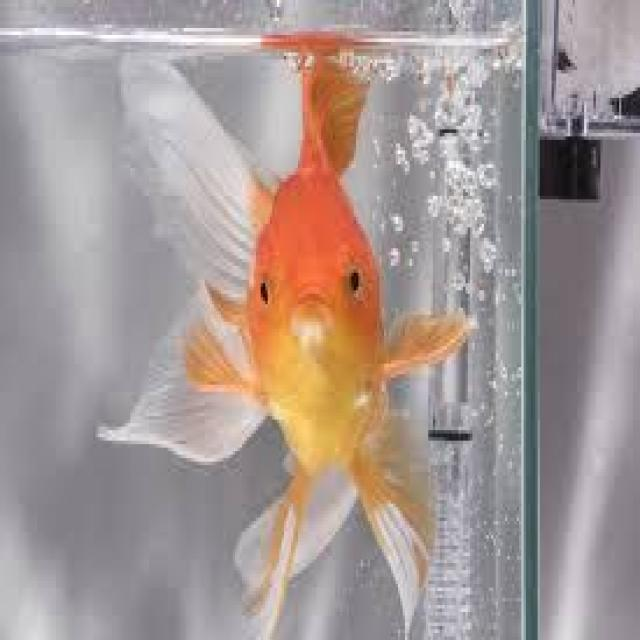Gold-Fish: (52, 17, 503, 621)
